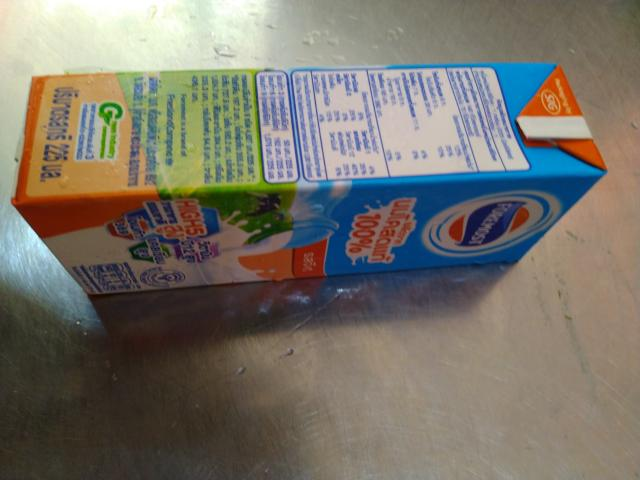drink_box: (13, 61, 608, 306)
